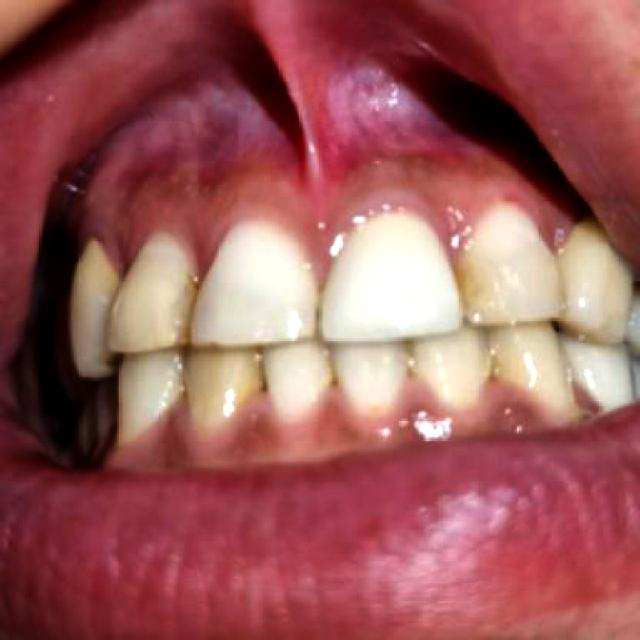Plaque: (71, 176, 574, 276)
